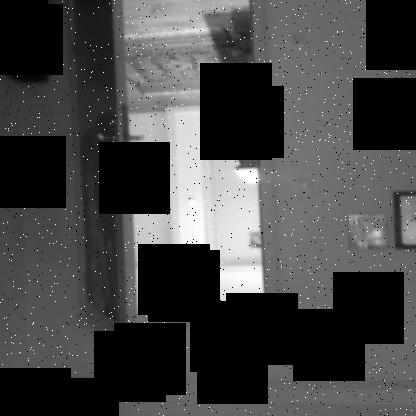Porte: (65, 0, 286, 366)
